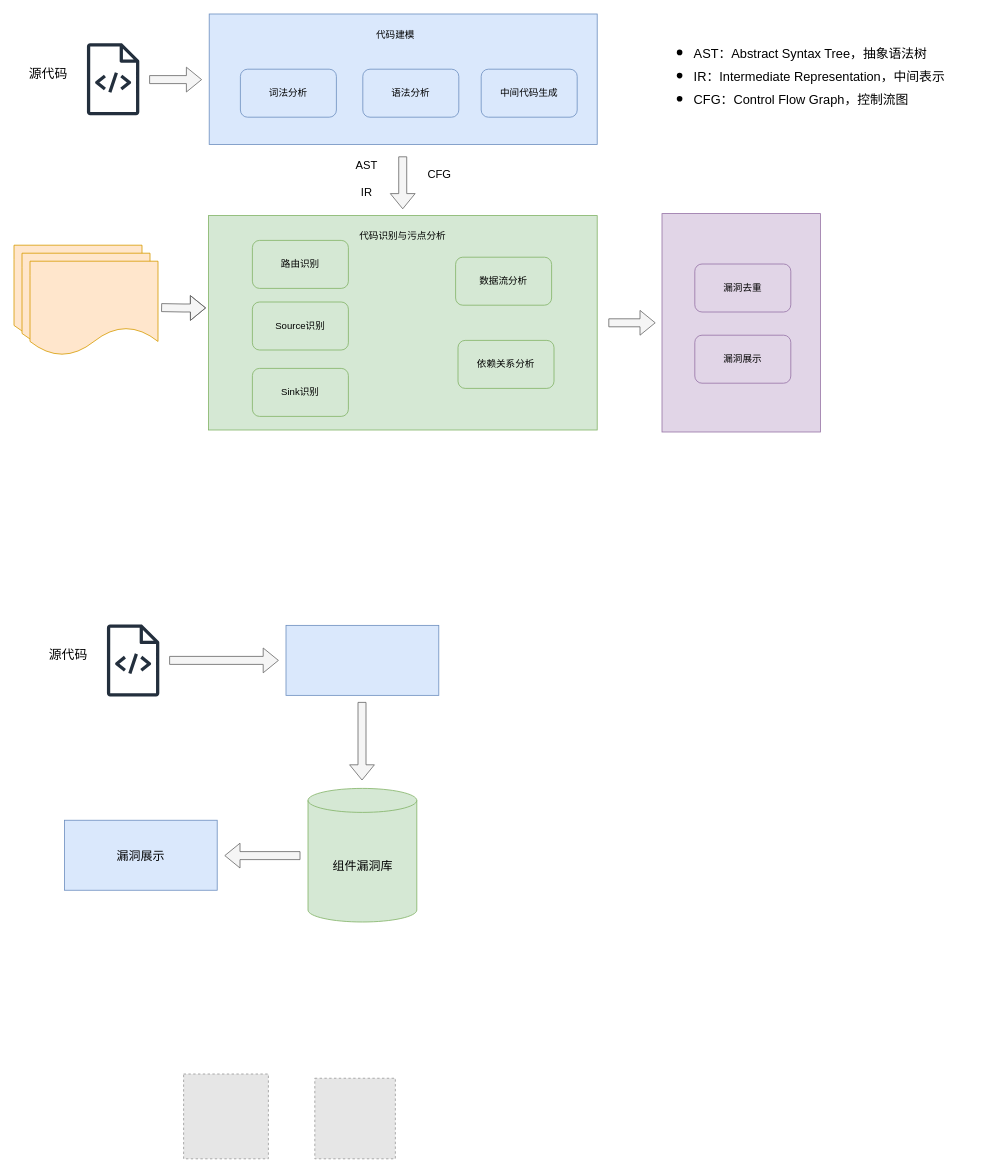
Image size: 998x1173. Some labels were removed from this diagram. Grey dashed boxes stand in for pictures. The box of each missing label's shape, as (x1, y1, x2, y2) in pixels:
污点分析规则： 路由规则 Source规则 Sink规则 污点传播规则: (29, 260, 158, 356)
组件识别: (285, 625, 439, 695)
